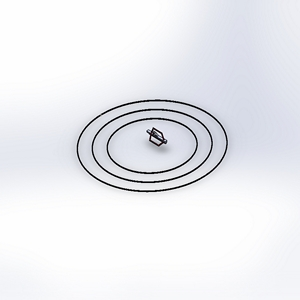circle: (70, 96, 233, 193)
submarine: (139, 124, 171, 151)
